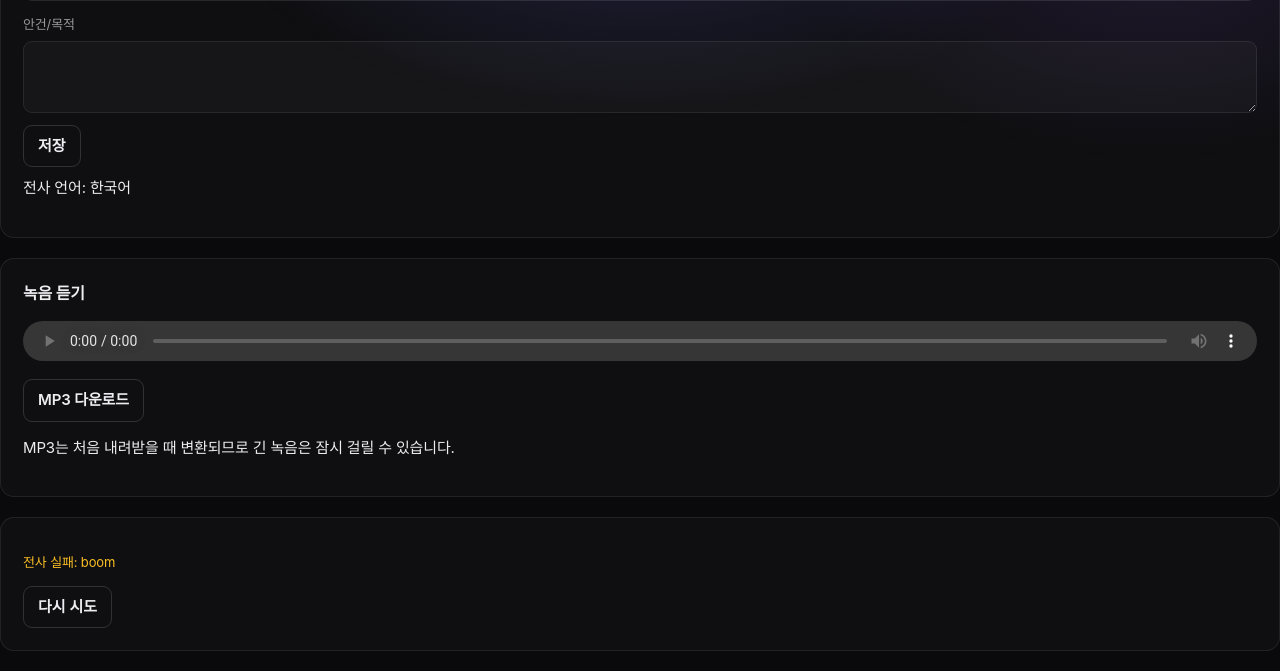
Test: RecordingDetail › shows retry on failed and reloads
(page scrolled)
Expected: the text "전사 실패: boom" is shown, [23,554,115,570]
Click the button "다시 시도" at (68, 607), box [23,586,112,628]
(page scrolled)
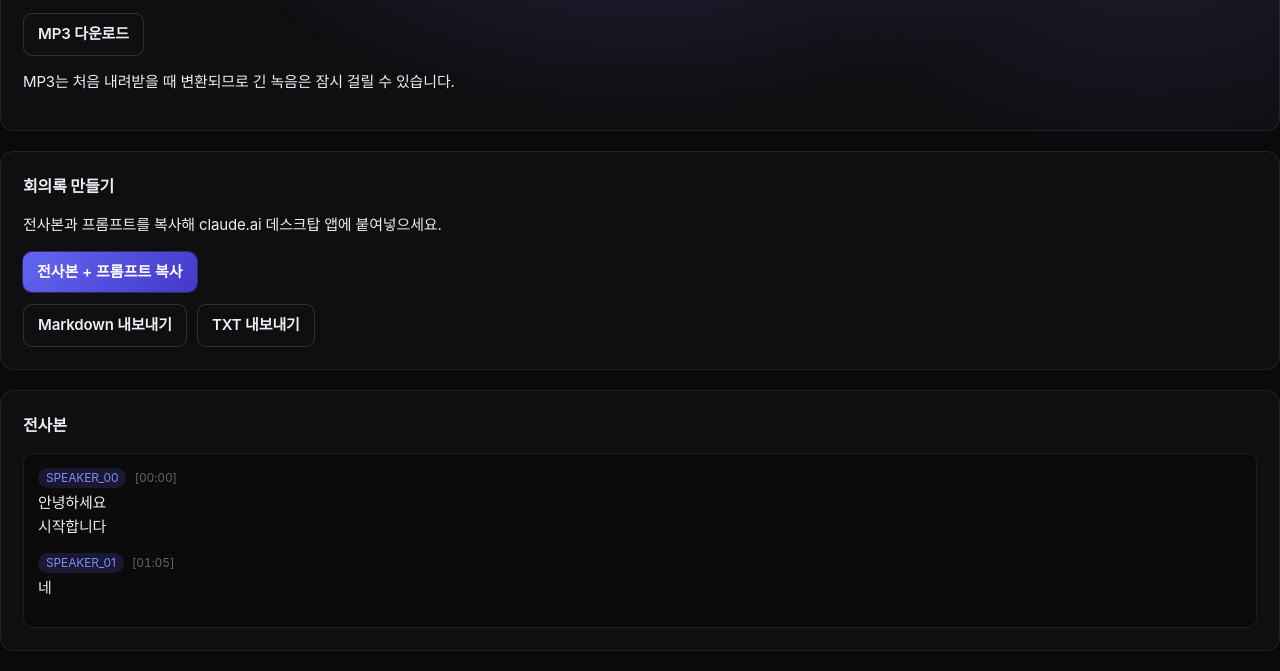
Result: the text "안녕하세요" is shown at [38,492,106,512]
